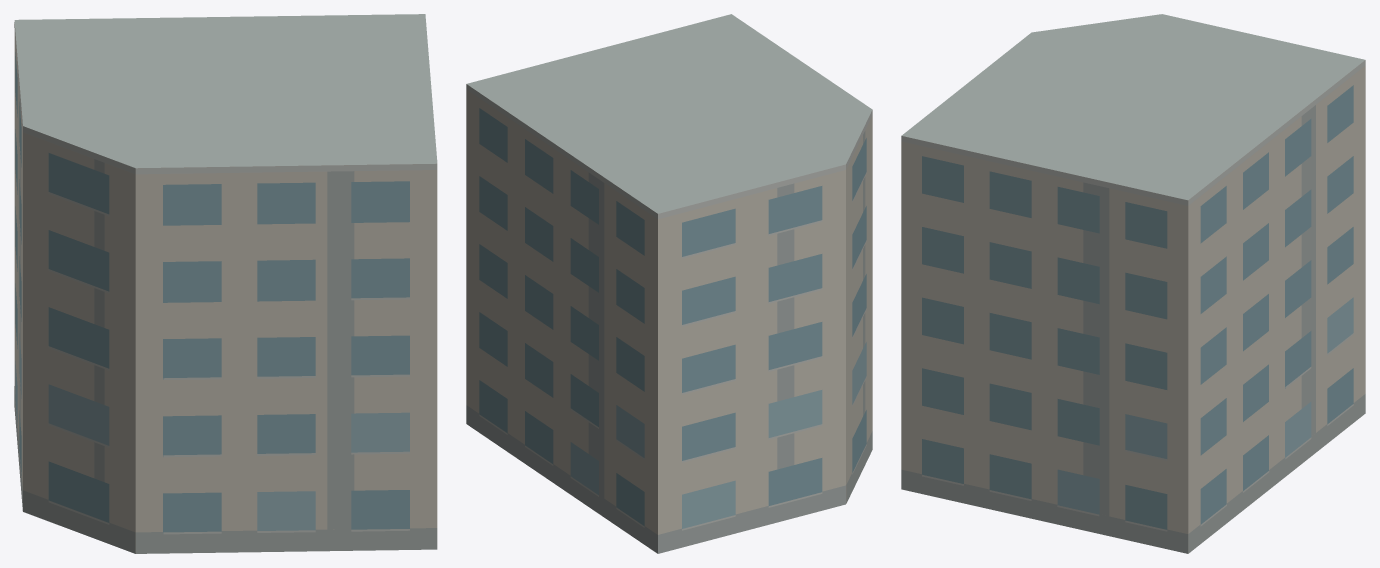
Rendered from residential-3c2b72ec-5c07-46cd-85fd-972af0e7b25f.glb.
3 views of the same model, side by side, from view 1: azimuth 30°, elevation 25°; view 2: azimuth 150°, elevation 25°; view 3: azimuth 270°, elevation 25° (orthographic). The views are drawn at different scales.
Parts seen in each view (by area): view 1: residential-3c2b72ec-5c07-46cd-85fd-972af0e7b25f.tmp; view 2: residential-3c2b72ec-5c07-46cd-85fd-972af0e7b25f.tmp; view 3: residential-3c2b72ec-5c07-46cd-85fd-972af0e7b25f.tmp.
Boxes of the visible parts, x1=… form: residential-3c2b72ec-5c07-46cd-85fd-972af0e7b25f.tmp: x1=14, y1=14, x2=437, y2=553; residential-3c2b72ec-5c07-46cd-85fd-972af0e7b25f.tmp: x1=466, y1=14, x2=872, y2=553; residential-3c2b72ec-5c07-46cd-85fd-972af0e7b25f.tmp: x1=901, y1=14, x2=1365, y2=553.
Size of the model in its own units: 17.25 by 15.25 by 18.16.
